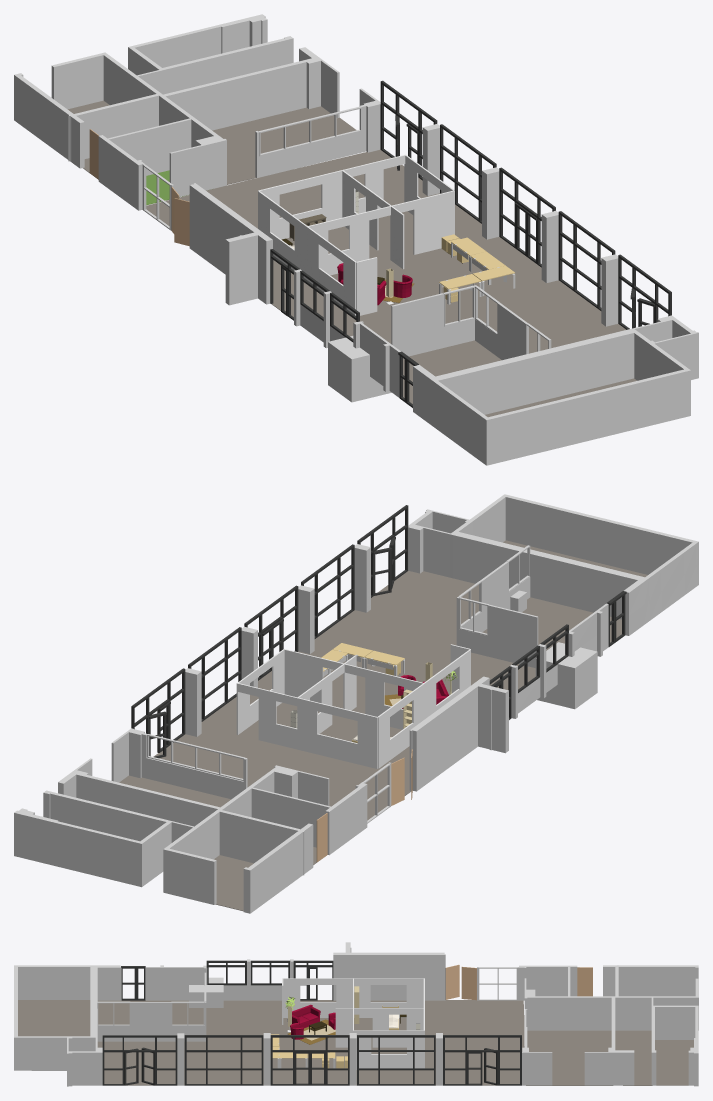
File: laas_adream.dae
3 views of the same model, one above another, from view 1: azimuth 30°, elevation 25°; view 2: azimuth 150°, elevation 25°; view 3: azimuth 270°, elevation 25° (orthographic). The views are drawn at different scales.
Visible parts, largest first — view 1: walls.002, walls.010, Floor_h020, glass_wall_h20_1, walls.004, Floor_h022, walls.001, walls.000, walls.011, Cube, Floor_h021, walls.005 (+14 smaller); view 2: walls.002, walls.010, Floor_h020, walls.004, glass_wall_h20_1, walls.001, walls.000, walls.011, Cube, Floor_h021, walls.005, Floor_h002 (+15 smaller); view 3: Floor_h020, walls.002, walls.010, glass_wall_h20_1, walls.004, Floor_h022, walls.011, Floor_h006, walls.005, Floor_h003, Floor_h021, Floor_h004 (+35 smaller).
Part boxes in pixels (left/top/right/bottom): walls.002: left=14, top=14, right=339, bottom=210; walls.010: left=413, top=315, right=698, bottom=465; Floor_h020: left=146, top=149, right=626, bottom=353; glass_wall_h20_1: left=380, top=80, right=671, bottom=329; walls.004: left=189, top=183, right=272, bottom=305; Floor_h022: left=212, top=106, right=356, bottom=184; walls.001: left=255, top=88, right=380, bottom=177; walls.000: left=391, top=285, right=476, bottom=356; walls.011: left=294, top=269, right=400, bottom=397; Cube: left=328, top=336, right=391, bottom=402; Floor_h021: left=403, top=340, right=501, bottom=403; walls.005: left=475, top=303, right=527, bottom=360; walls.002: left=14, top=758, right=367, bottom=913; walls.010: left=408, top=494, right=698, bottom=635; Floor_h020: left=153, top=571, right=535, bottom=820; walls.004: left=409, top=676, right=508, bottom=791; glass_wall_h20_1: left=131, top=505, right=408, bottom=745; walls.001: left=111, top=728, right=247, bottom=799; walls.000: left=456, top=597, right=538, bottom=667; walls.011: left=510, top=603, right=608, bottom=718; Cube: left=535, top=642, right=597, bottom=709; Floor_h021: left=482, top=597, right=621, bottom=650; walls.005: left=461, top=561, right=530, bottom=632; Floor_h002: left=214, top=855, right=253, bottom=911; Floor_h020: left=97, top=1000, right=524, bottom=1085; walls.002: left=517, top=965, right=698, bottom=1086; walls.010: left=14, top=965, right=121, bottom=1086; glass_wall_h20_1: left=102, top=1035, right=521, bottom=1085; walls.004: left=333, top=942, right=445, bottom=1000; Floor_h022: left=526, top=1030, right=612, bottom=1085; walls.011: left=146, top=959, right=293, bottom=1000; Floor_h006: left=18, top=1000, right=90, bottom=1036; walls.005: left=97, top=1002, right=204, bottom=1041; Floor_h003: left=655, top=1040, right=693, bottom=1085; Floor_h021: left=97, top=1000, right=203, bottom=1024; Floor_h004: left=615, top=1030, right=652, bottom=1085.
Bounding box in the file's own units: 13.45 × 39.63 × 4.18.
